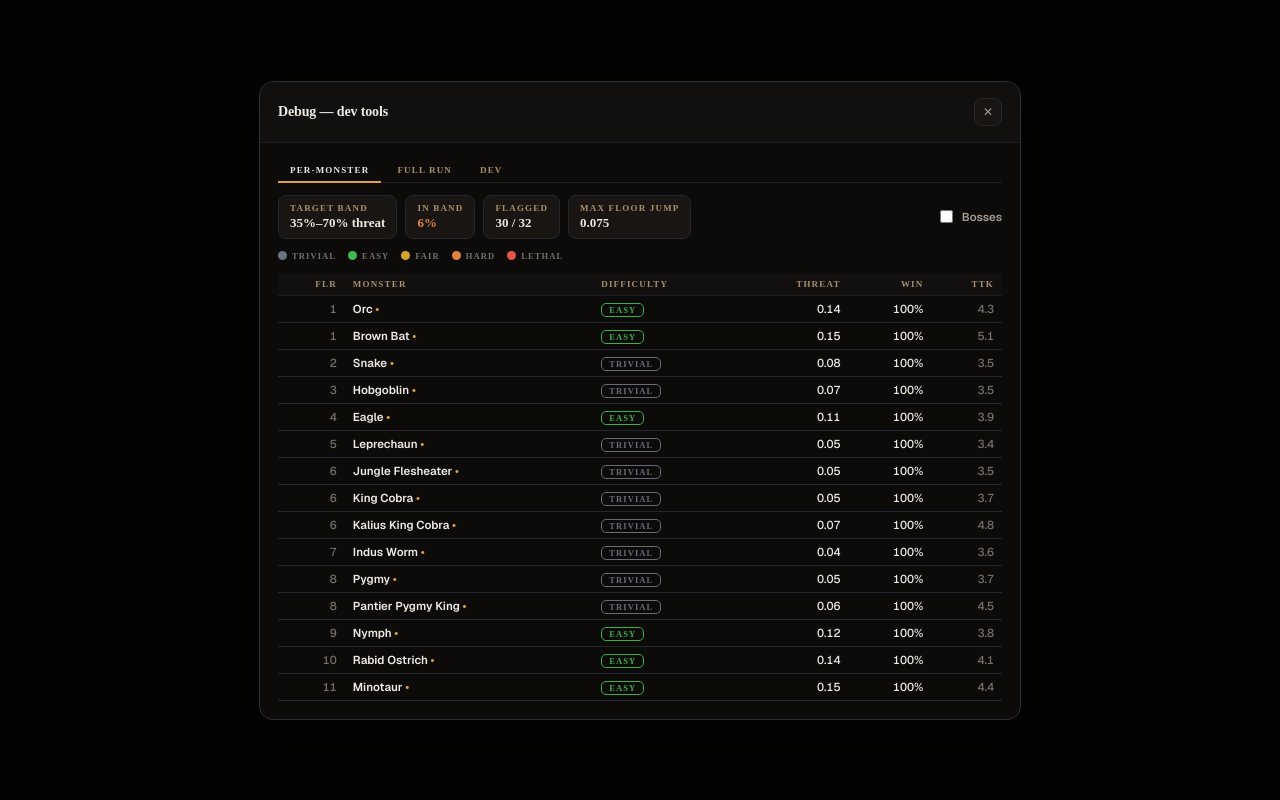
Test: DebugPanel full-run tab › clears the result when switching away mid-computation (no stale flash)
The image size is (1280, 800).
Click the button with class "tab" showing "Full run" at [425, 170], box top-left (385, 158), bottom-right (464, 182)
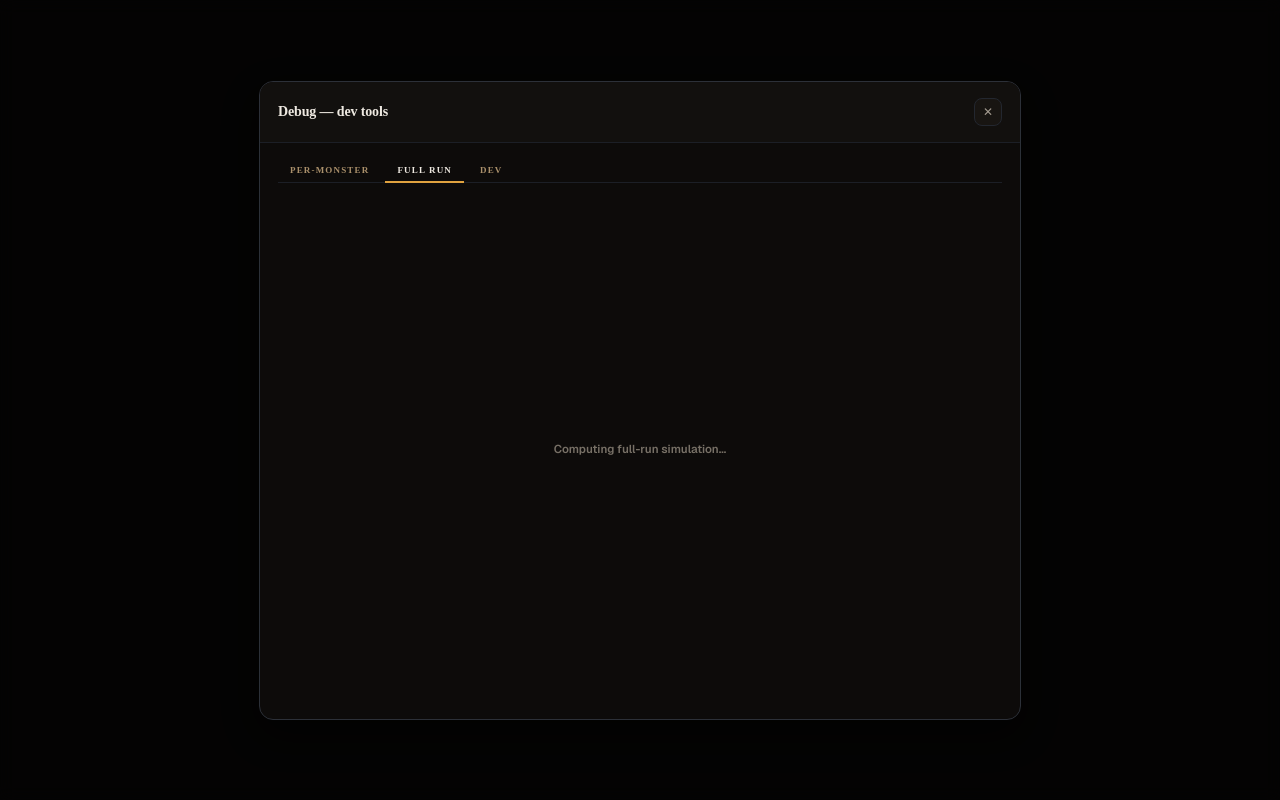
Now the text "Computing full-run simulation…" is shown, box top-left (554, 441), bottom-right (726, 456)
# Leave before the deferred sim resolves.
Click the button with class "tab" showing "Per-monster" at [330, 170], box top-left (278, 158), bottom-right (381, 182)
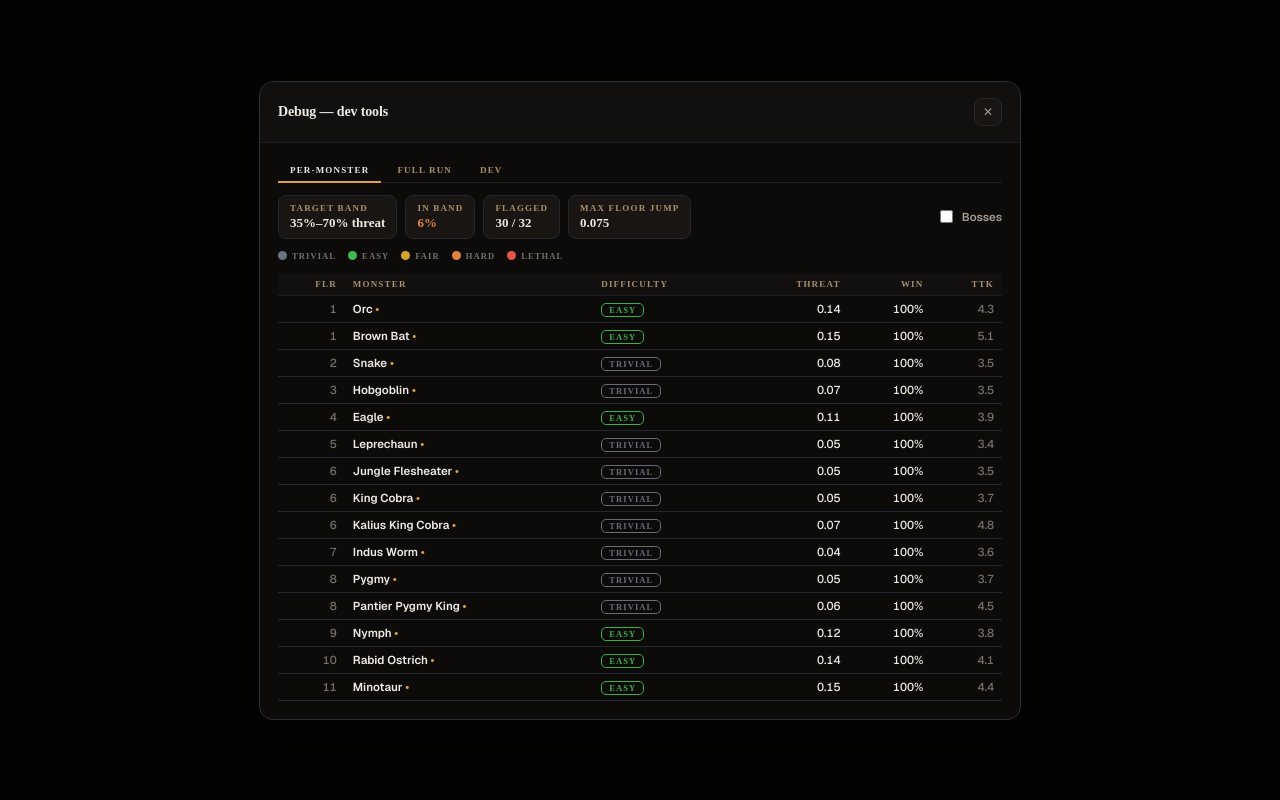
Now the text with class "loading" is gone
# Re-entering shows the loading state again, not a stale result.
Click the button with class "tab" showing "Full run" at [425, 170], box top-left (385, 158), bottom-right (464, 182)
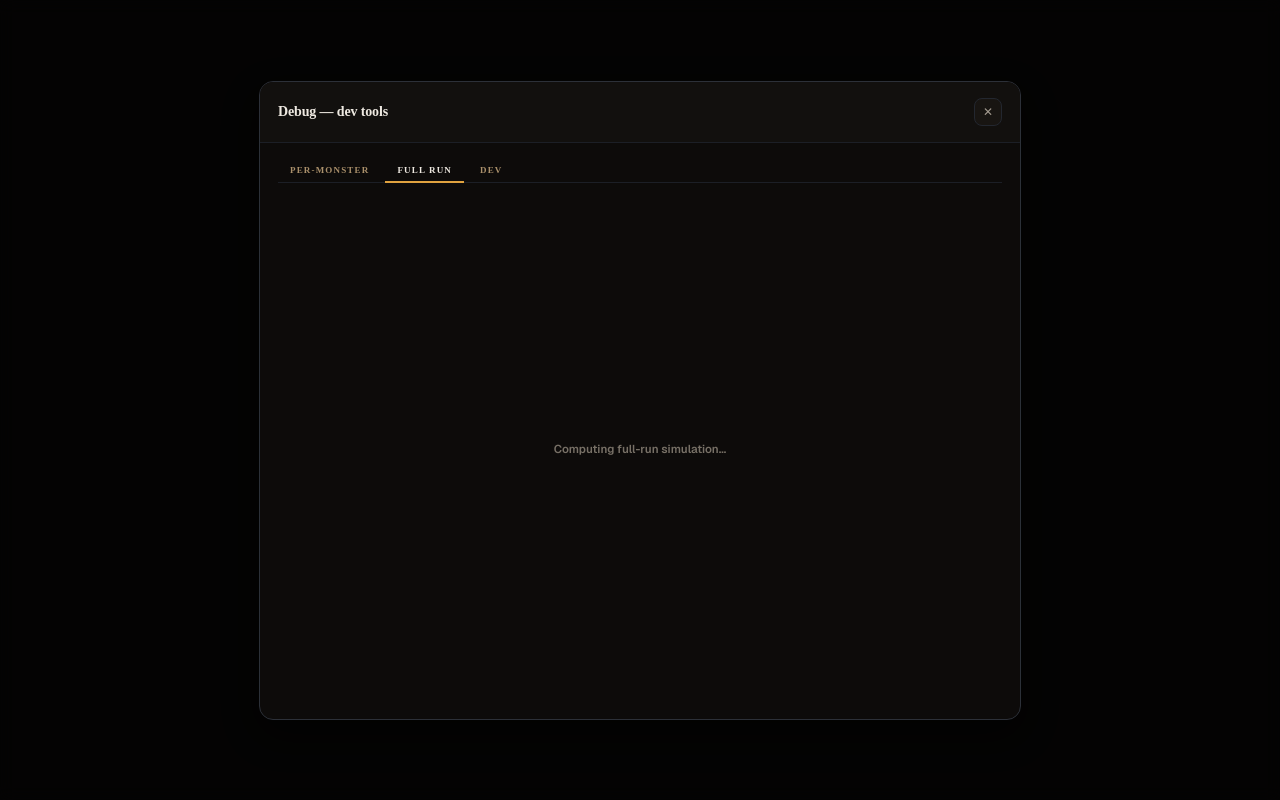
Now the text "Computing full-run simulation…" is shown, box top-left (554, 441), bottom-right (726, 456)
